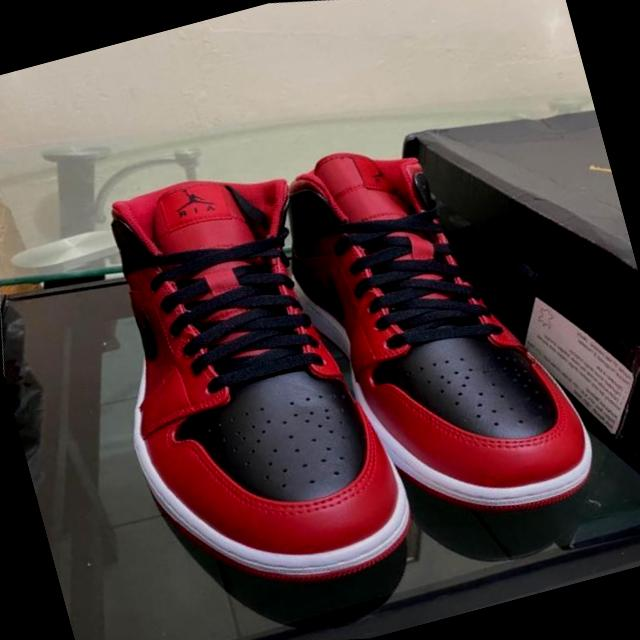nike_original_jordan: (22, 110, 497, 640), (191, 27, 640, 585)
